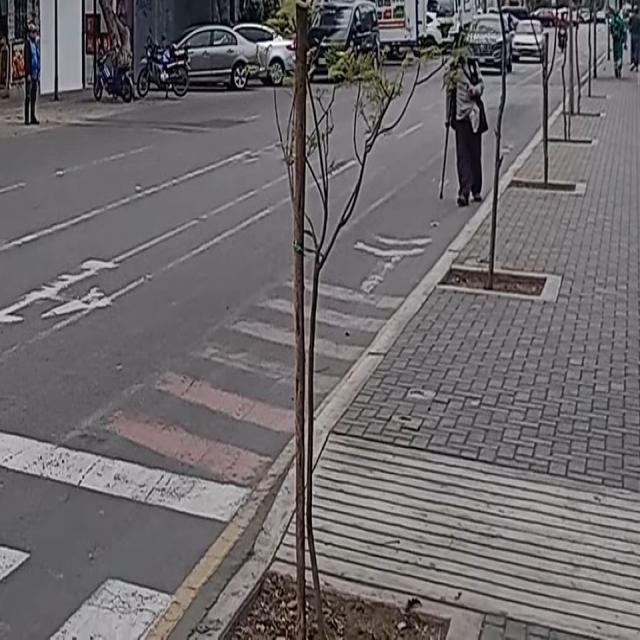car: (304, 0, 380, 82), (466, 16, 510, 75), (511, 18, 548, 62)
